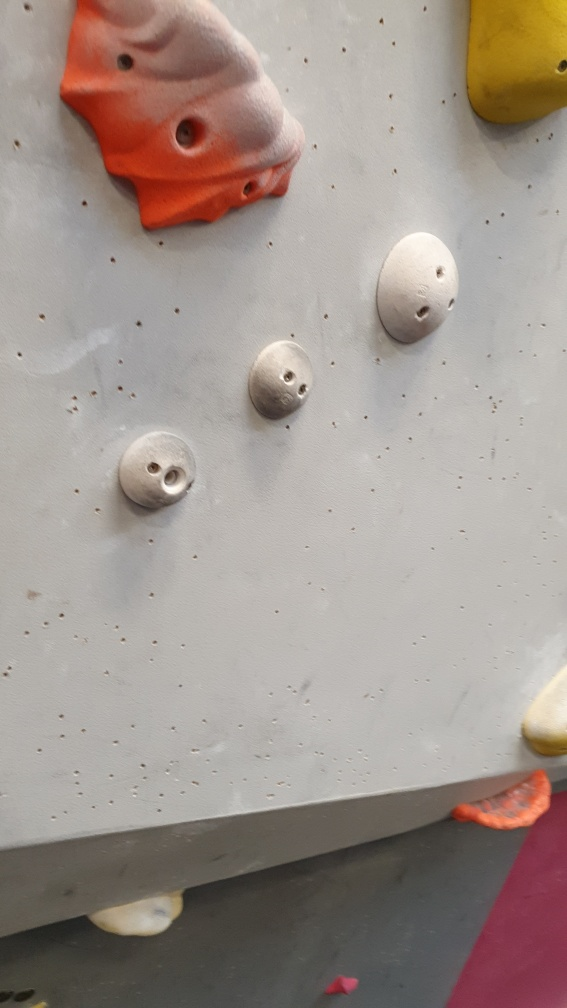Hand Start: (14, 986, 37, 1005)
Jug: (50, 1, 308, 235), (445, 768, 558, 830)
Sloper: (374, 227, 462, 348), (119, 428, 199, 512), (248, 337, 317, 423)
